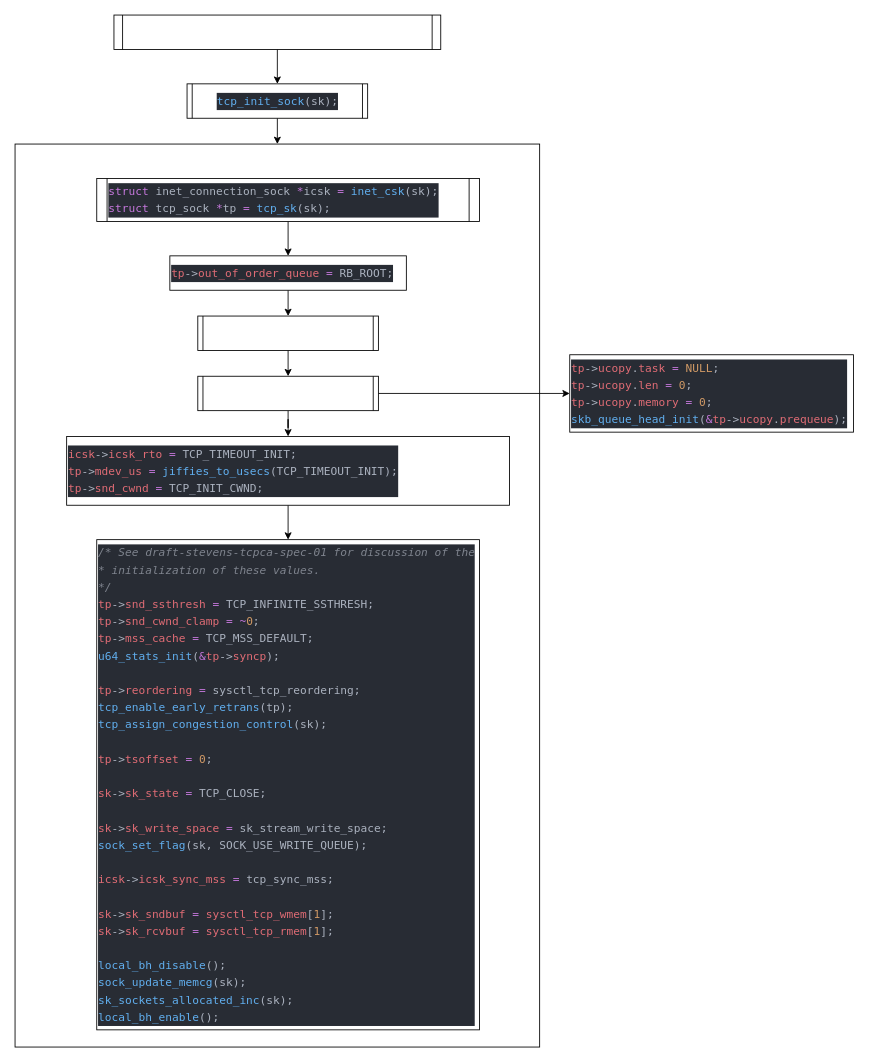
This 869x1062 diagram has some shape labels left out. The box of each missing label's shape, as (x1, y1, x2, y2) in pixels:
inet_connection_sock * icsk = inet_csk (sk);: (113, 14, 441, 49)
tcp_init_xmit_timers (sk);: (197, 315, 378, 350)
tcp_prequeue_init (tp);: (197, 375, 378, 411)
